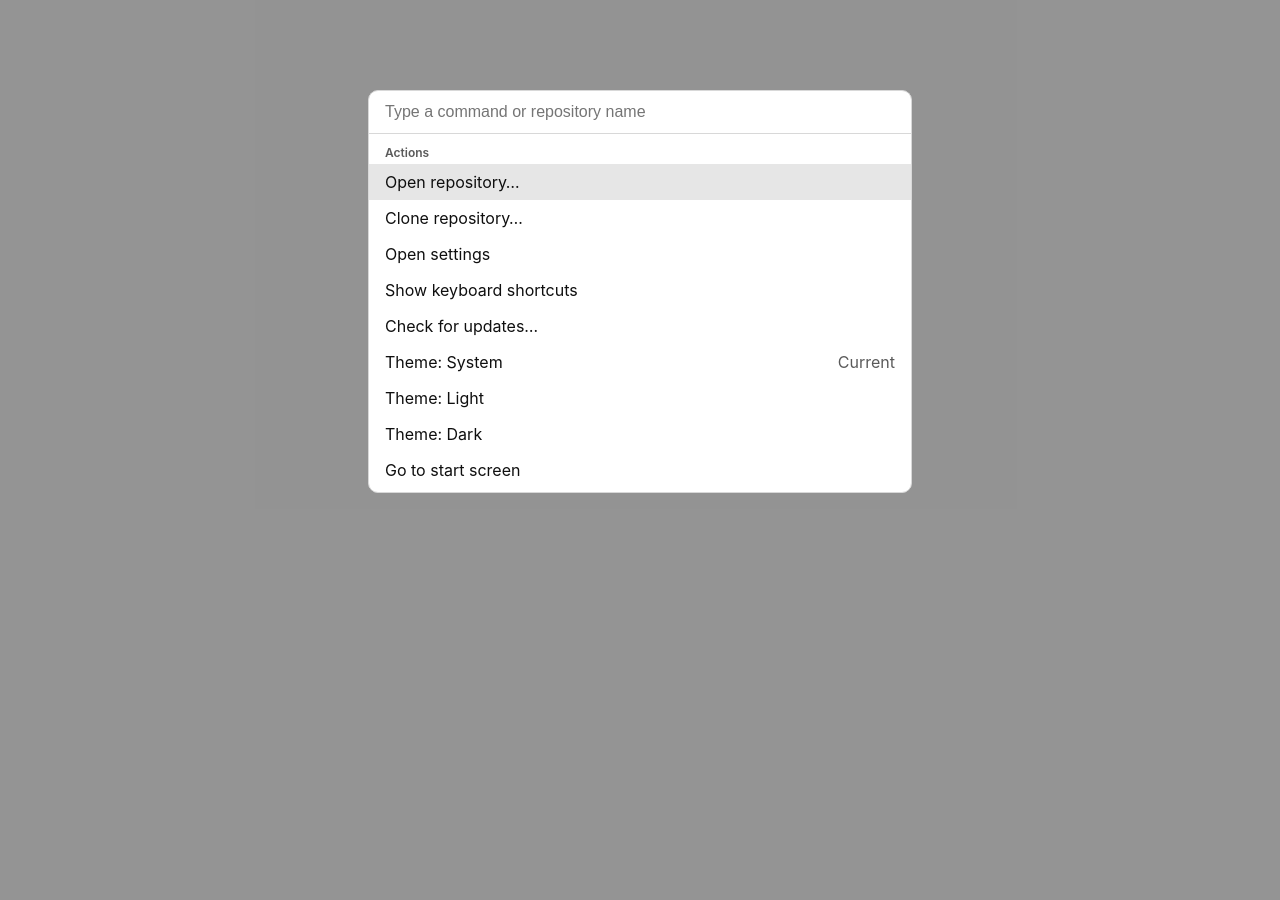
Test: CommandPalette rendering › shows No matching commands when query matches nothing
In the dropdown named "Search commands": coordinates (640, 112) [369,91,911,134], type "xyzzy12345nomatches"
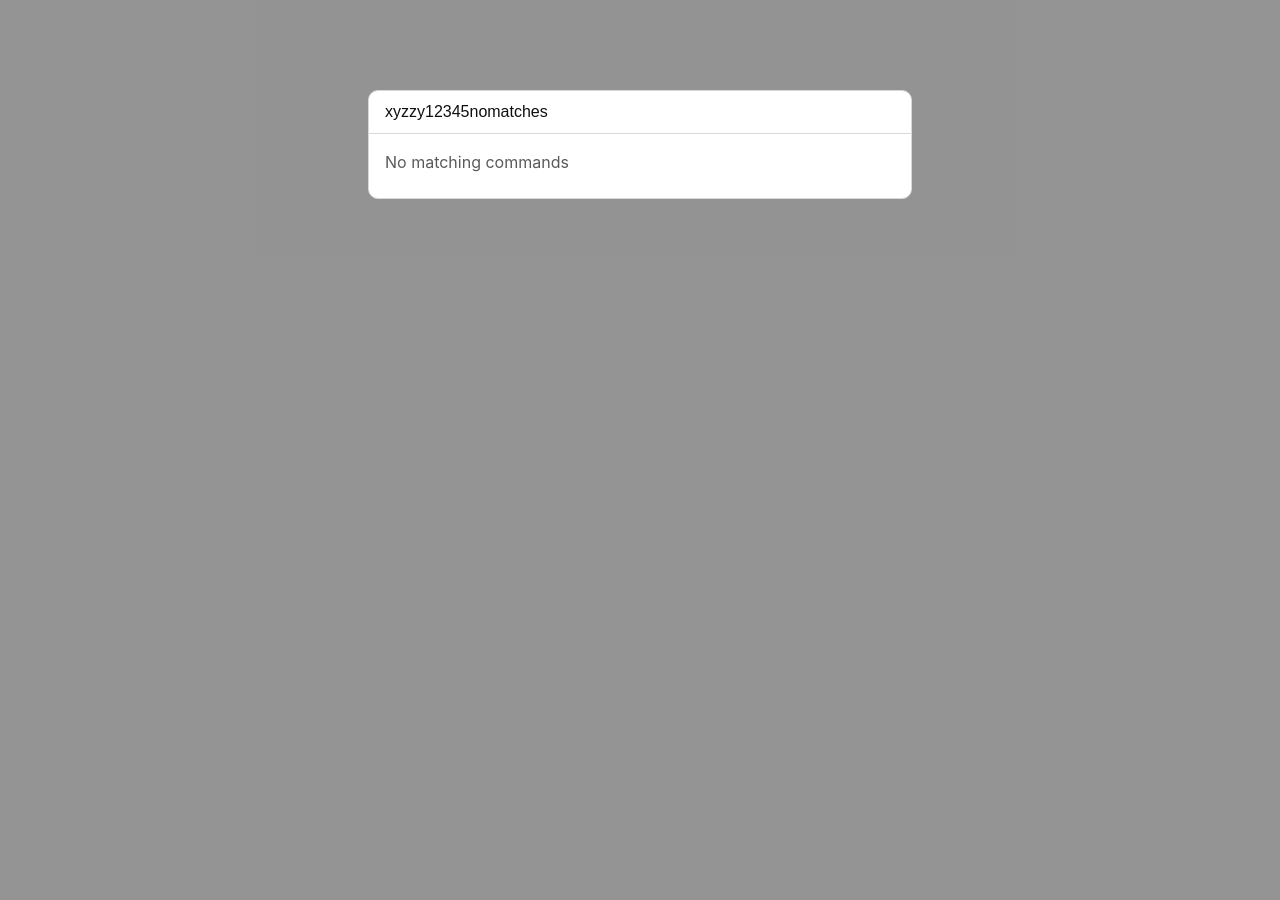
Expected: the text "No matching commands" is shown, [385,152,569,172]
